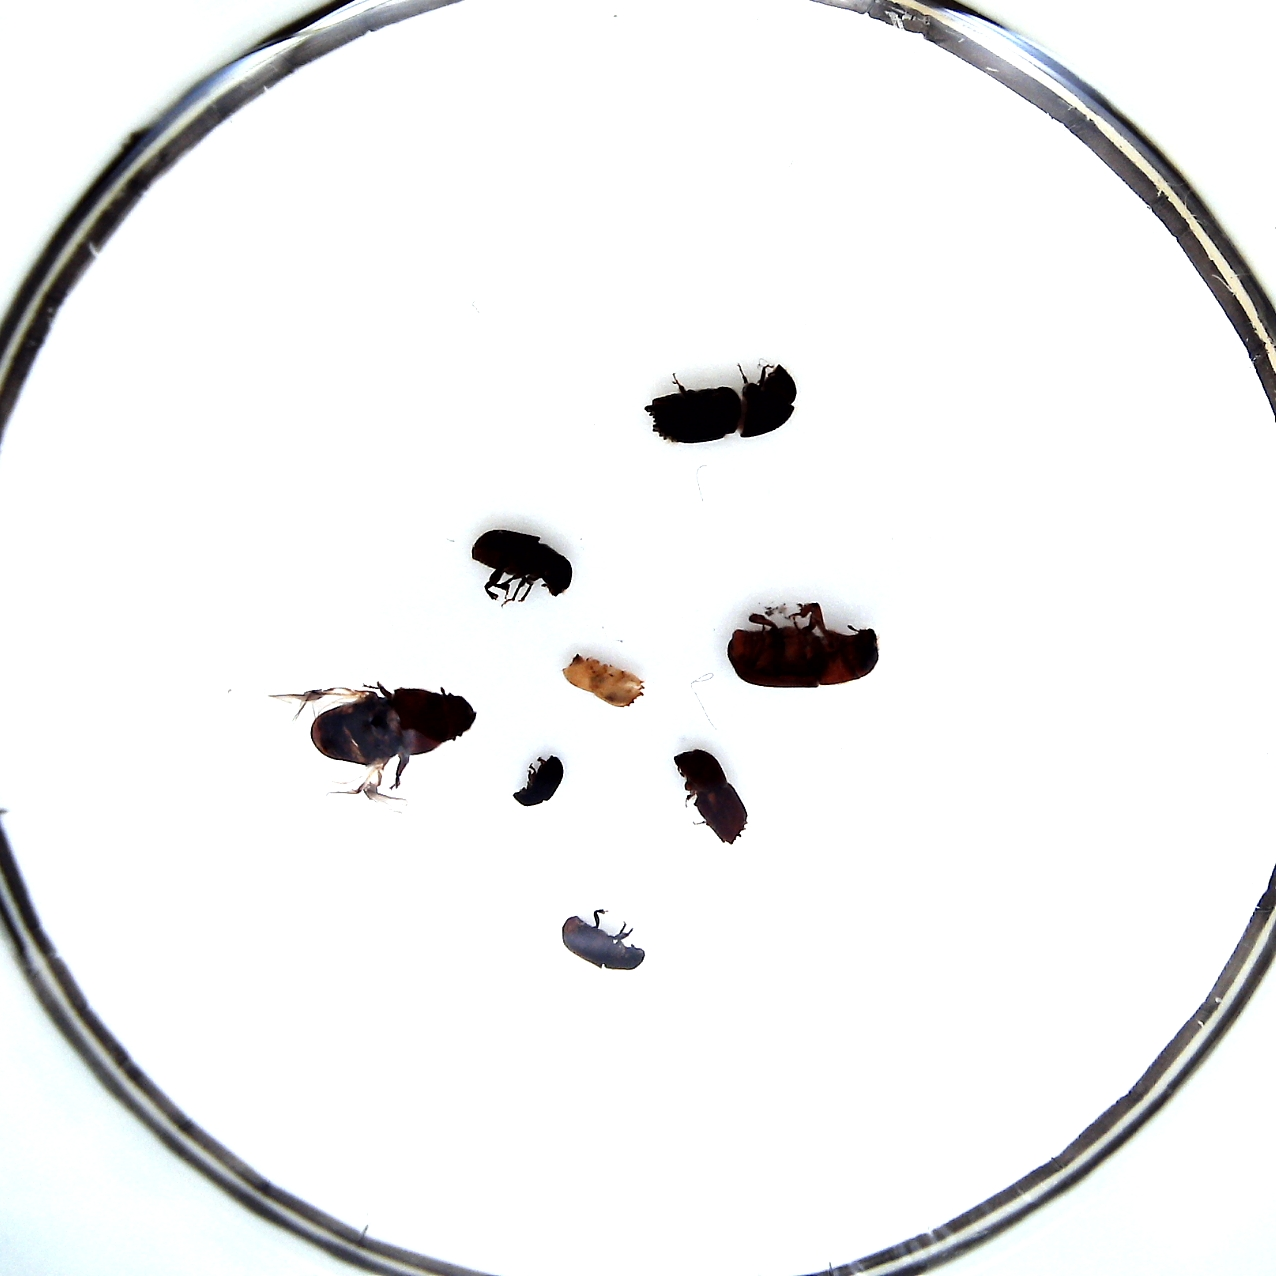Boerner: (645, 361, 796, 446)
Leconte: (728, 599, 881, 689), (308, 688, 477, 767)
acuminatus: (516, 755, 563, 806)
armandi: (472, 530, 573, 606), (560, 910, 645, 970)
coleoptera: (560, 656, 647, 707)
linnaeus: (671, 747, 748, 846)
